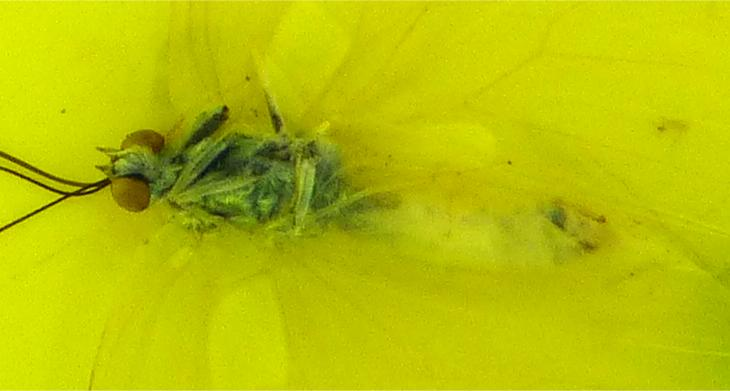Lepidoptera: (100, 100, 630, 291)
